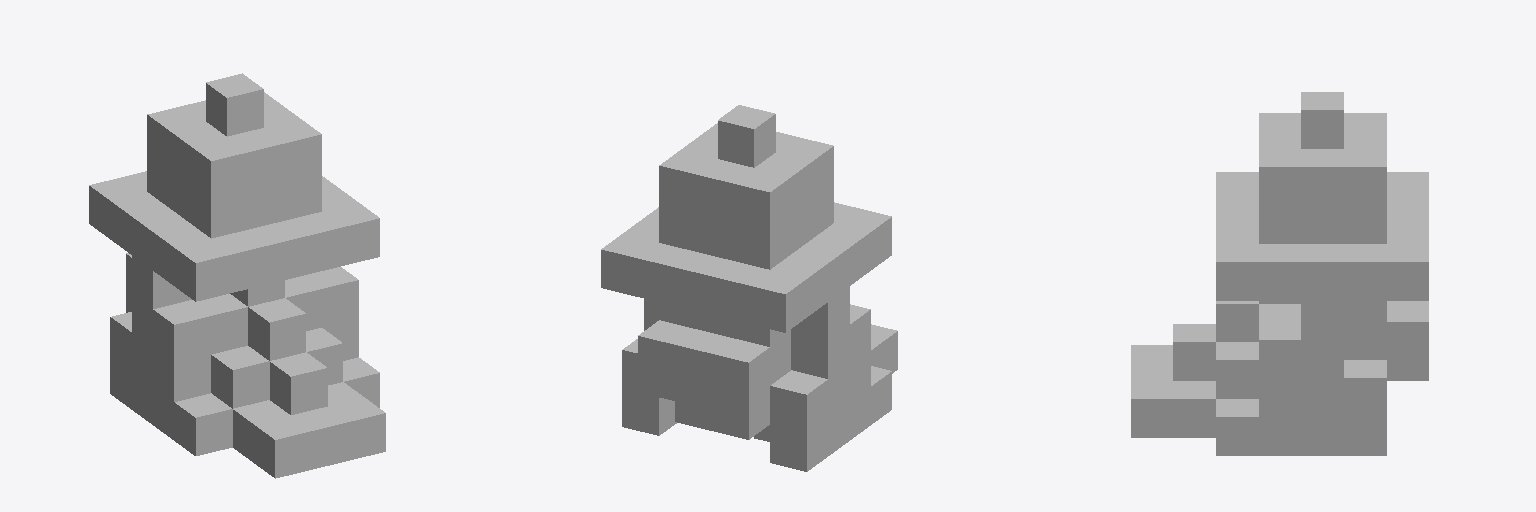
File: GnomeWarriorDetailedBlend.obj
3 renders of one model, left to right at view 1: azimuth 30°, elevation 25°; view 2: azimuth 150°, elevation 25°; view 3: azimuth 270°, elevation 25°, orthographic.
Visible parts, largest first — view 1: GnomeWarriorDetailed; view 2: GnomeWarriorDetailed; view 3: GnomeWarriorDetailed.
Boxes of the visible parts, x1=… form: GnomeWarriorDetailed: x1=89, y1=73, x2=385, y2=478; GnomeWarriorDetailed: x1=601, y1=105, x2=897, y2=471; GnomeWarriorDetailed: x1=1131, y1=92, x2=1428, y2=455.
Size of the model in its own units: 0.5 by 0.8 by 0.7.